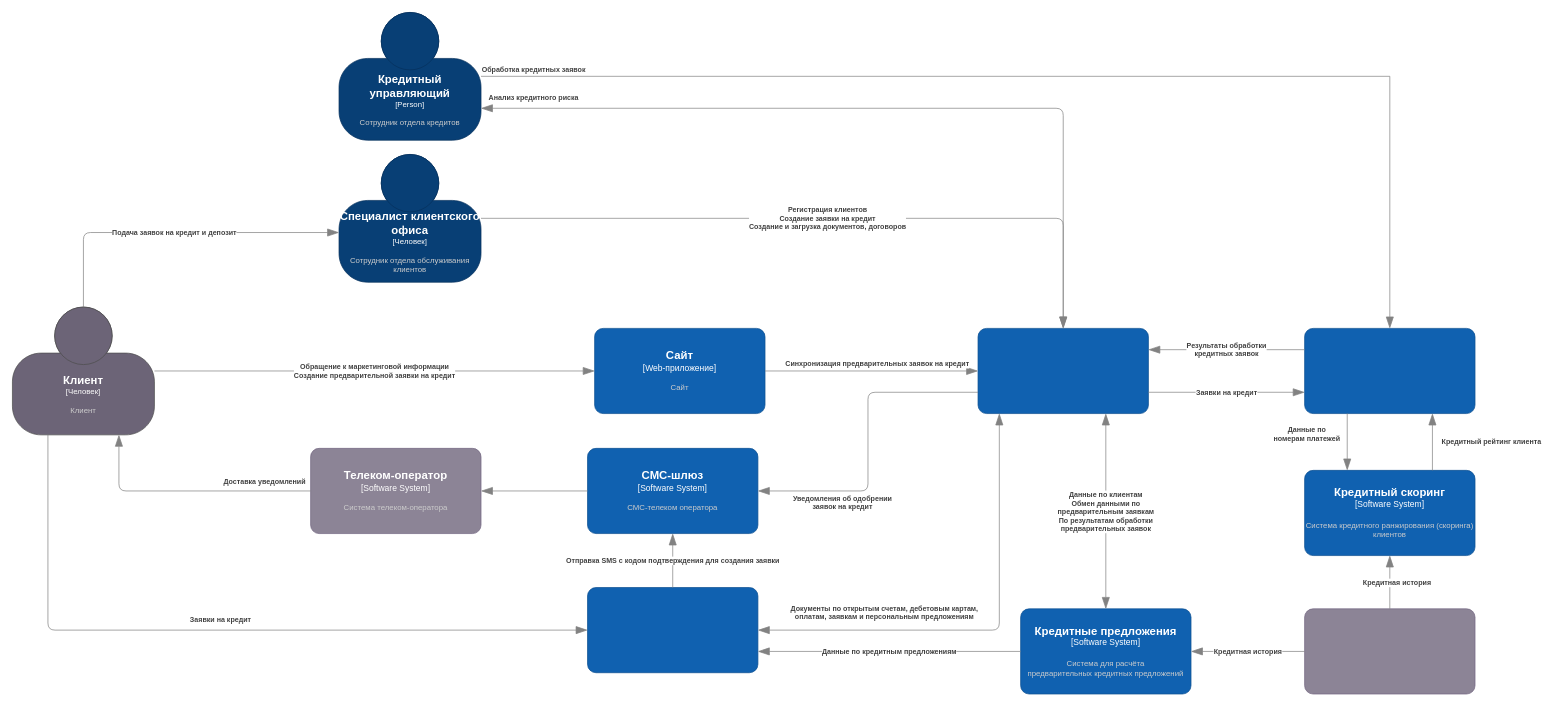
The diagram is 1553 pixels wide and 706 high, and some of its shapes have lost their labels. The shapes that lost their labels are listed below. From the top down, each one's box as (x1, y1, x2, y2) in pixels, then its label:
(977, 328, 1148, 414): АБС [Software System] Автоматизированная Банковская Система
(1304, 328, 1475, 414): Кредитный конвейер [Software System] Система для обработки заявки на кредиты
(587, 587, 758, 673): Интернет-банк [Web-приложение] Web-приложение Интернет Банк
(1304, 608, 1475, 694): Бюро кредитных историй [Software System] Система Бюро Кредитных Историй
